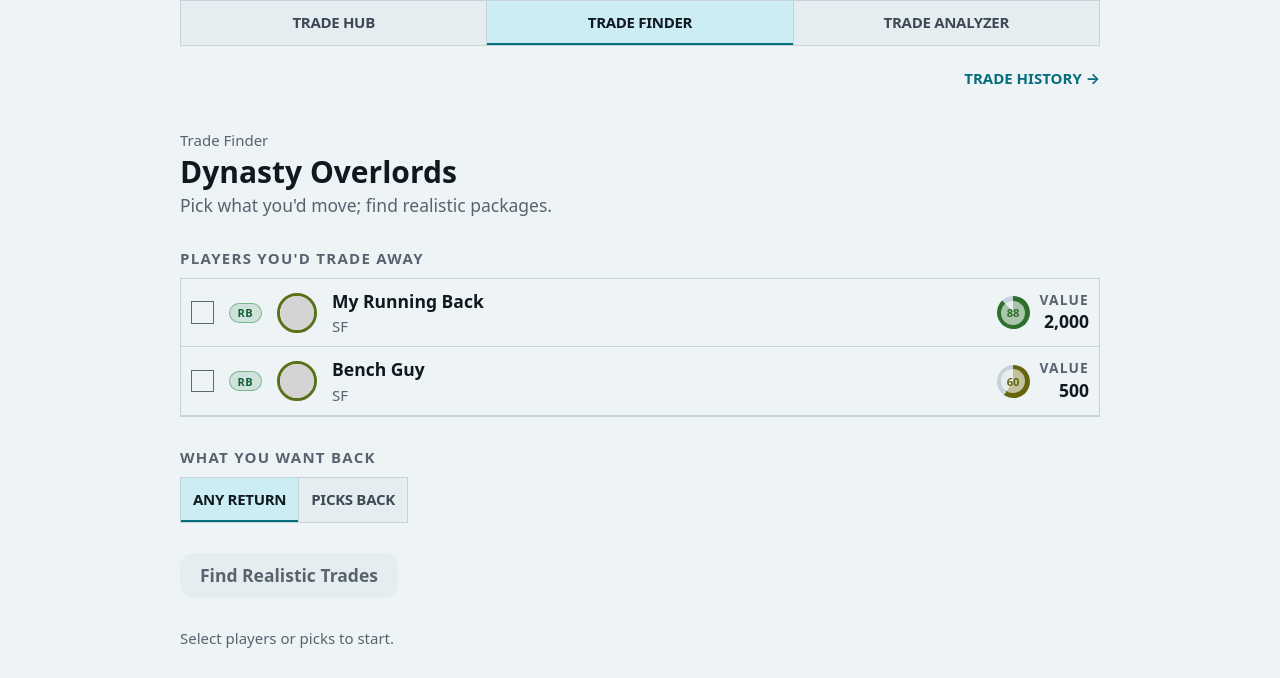
Scenario: TradeFinderContent › searches with exactly the selected player_ids and renders results via the shared trade-idea card
The width and height of the screenshot is (1280, 678).
What coordinates should you click on to do the following:
click the text "My Running Back"
I would click on:
 (408, 302)
Its box is [332, 289, 484, 314].
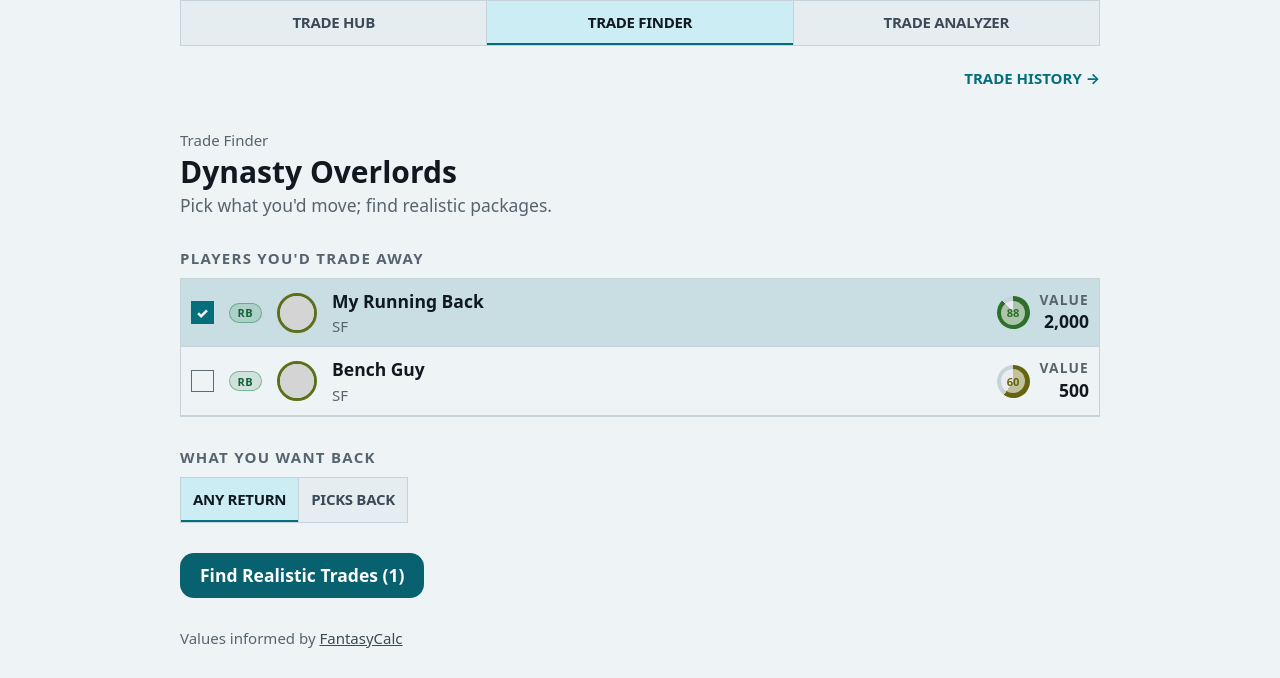
What coordinates should you click on to do the following:
click the button "Find Realistic Trades (1)"
I would click on:
 (302, 575)
Its box is [180, 553, 424, 598].
(page scrolled)
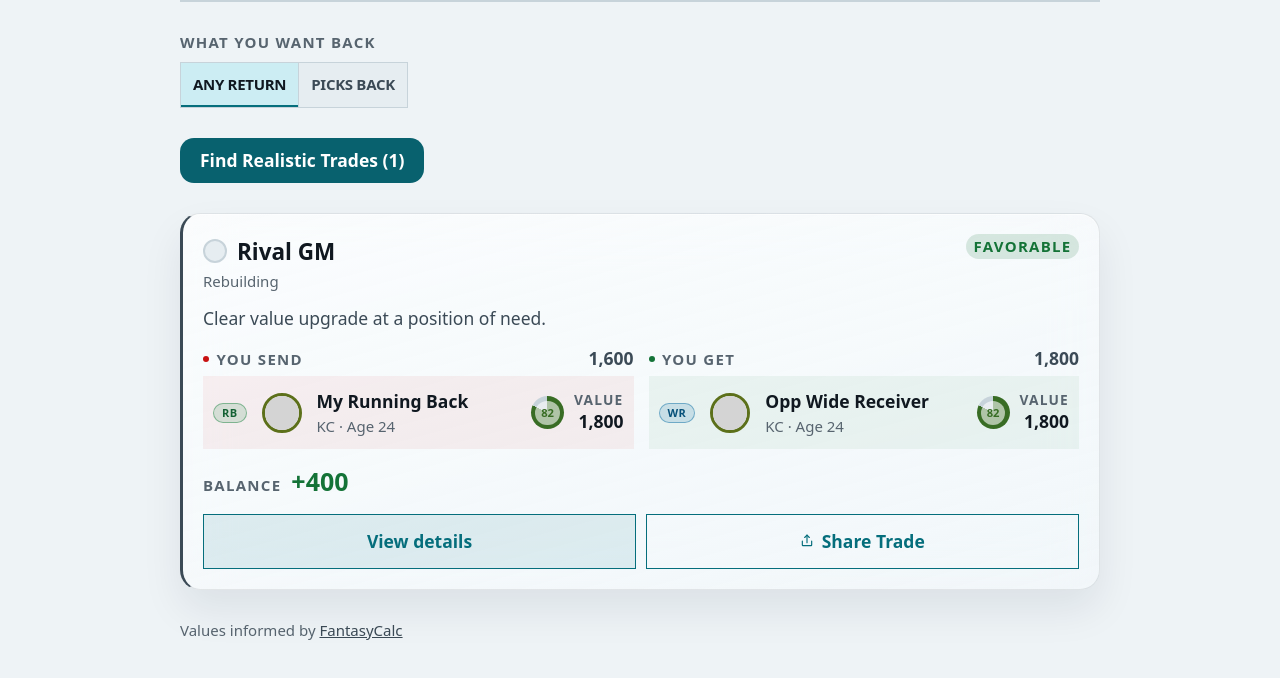
Check: the heading "Rival GM" is shown, box [237, 234, 335, 269]
Check: the text "Favorable" is shown, box [966, 234, 1079, 259]
Check: the text "Opp Wide Receiver" is shown, box [765, 389, 929, 414]
